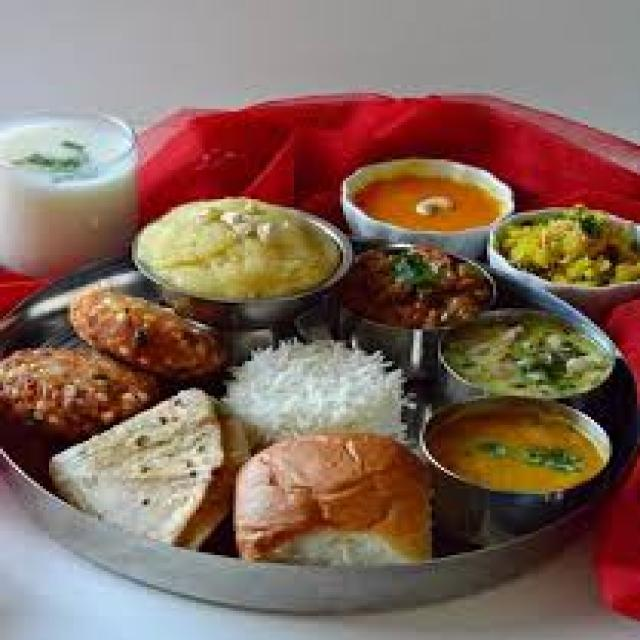dal: (419, 401, 610, 508)
raita: (0, 99, 144, 261)
rice: (231, 334, 403, 447)
roti: (52, 380, 227, 540)
sambar-rasam: (341, 151, 514, 248)
veg-fry: (53, 272, 227, 391)
